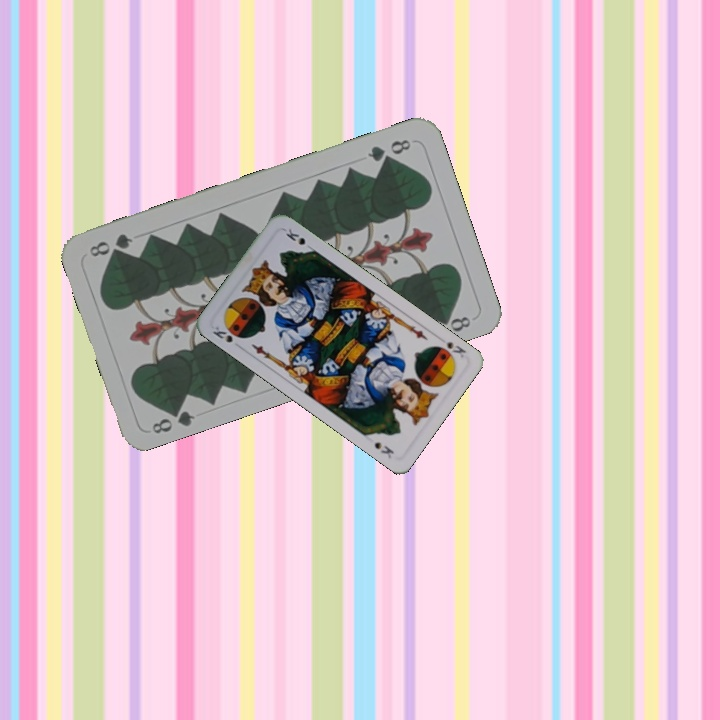G8: (148, 401, 198, 437), (363, 135, 414, 164)
SK: (431, 337, 469, 362), (209, 322, 235, 345)
